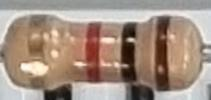Black: (120, 22, 139, 82)
Brown: (152, 15, 173, 90)
Red: (83, 20, 105, 82)
Side-Silver: (27, 13, 50, 89)
